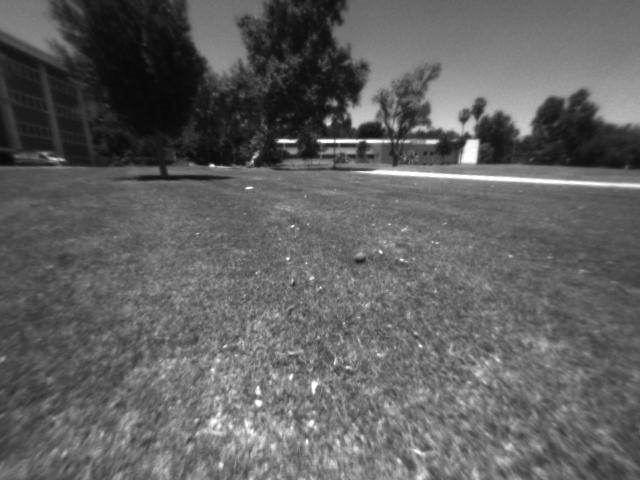dogtoy: (346, 246, 375, 271)
